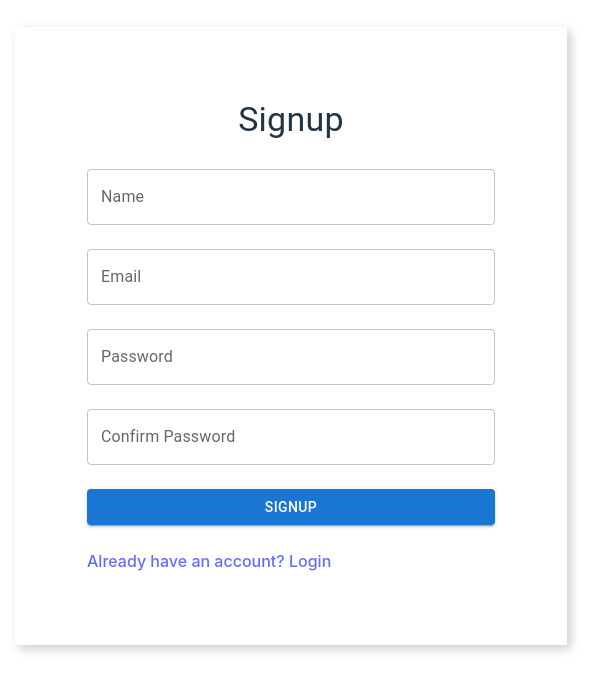
Test: Signup Component › signup Failed
Type "John Doe" into the field labelled "Name".
click(291, 197); type("John Doe")  # box [87,169,495,225]
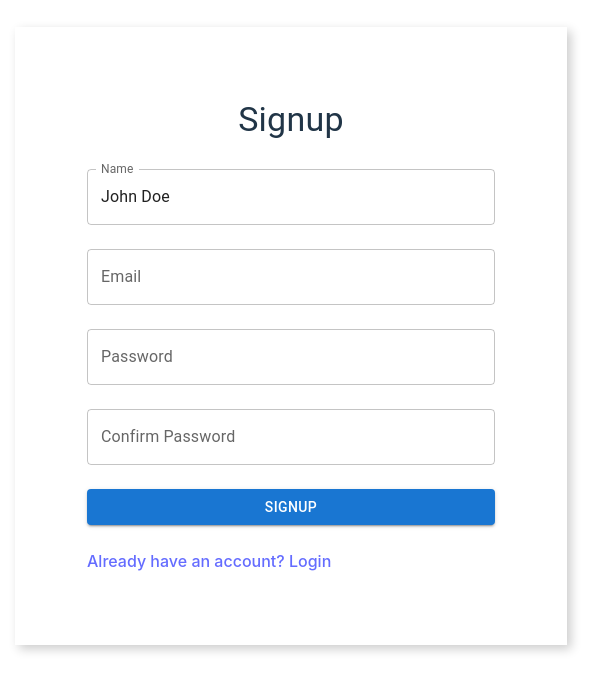
Type "john.doe@example.com" into the field labelled "Email".
click(291, 277); type("john.doe@example.com")  # box [87,249,495,305]
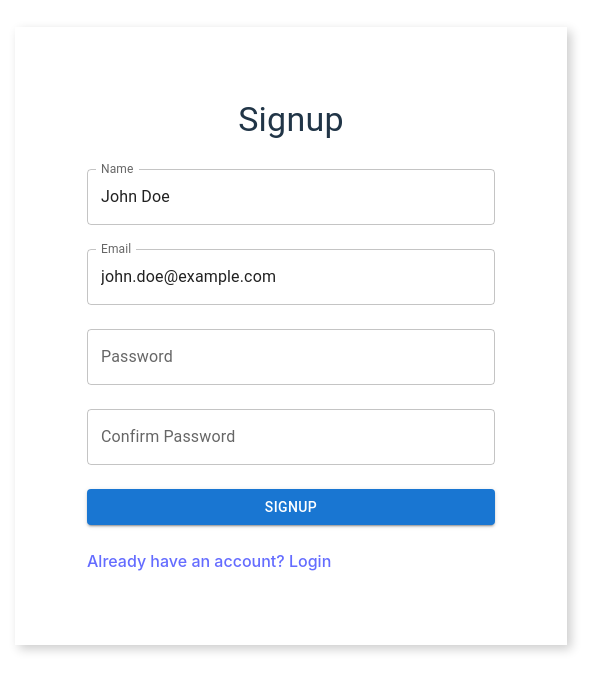
Type "Password@123" into the password field labelled "Password".
click(291, 357); type("Password@123")  # box [87,329,495,385]
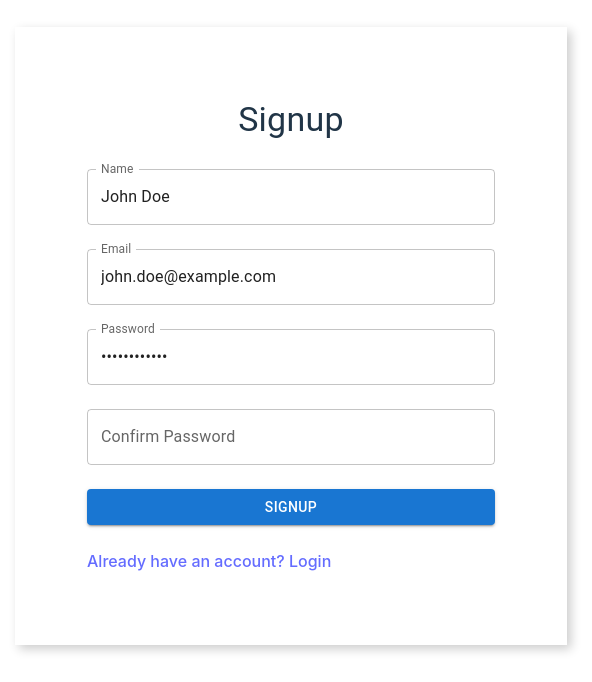
Type "Password@123" into the password field labelled "Confirm Password".
click(291, 437); type("Password@123")  # box [87,409,495,465]
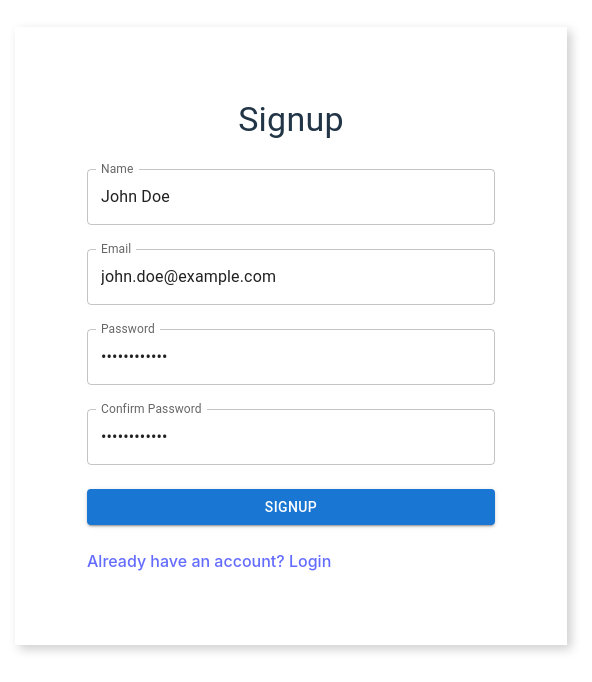
Click the button "Signup".
click(291, 507)  # box [87,489,495,525]
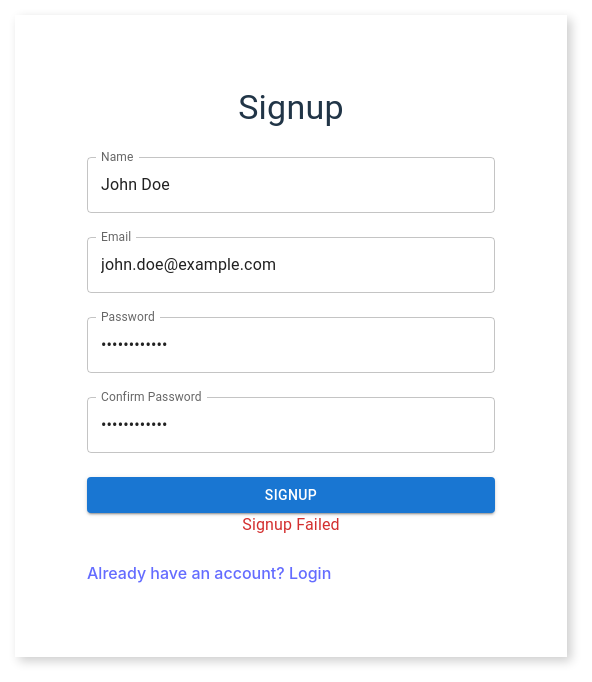
Expected: the text "Signup Failed" is shown, [242,515,340,534]
